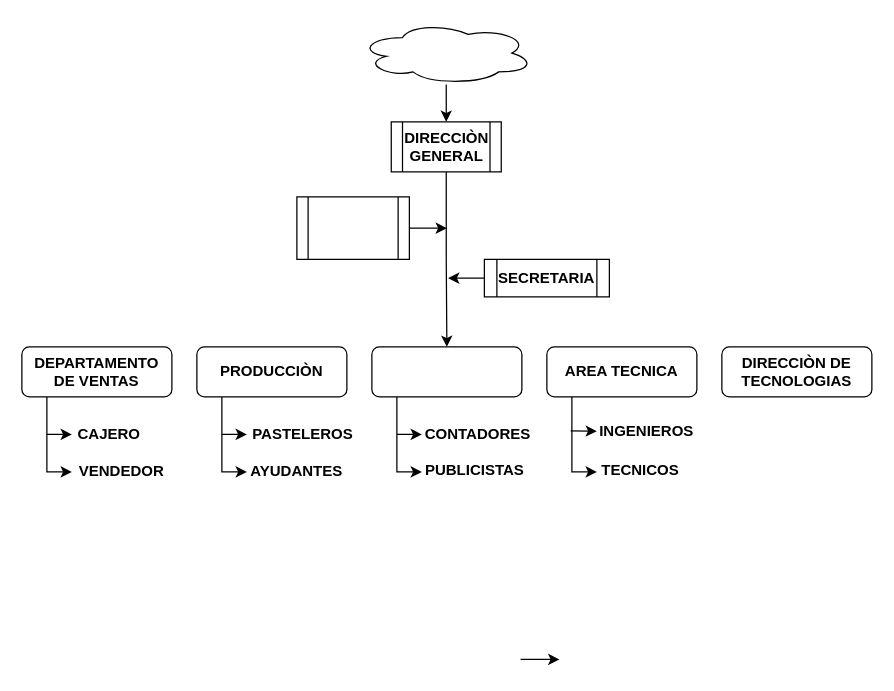
The diagram is 894 pixels wide and 691 high, and some of its shapes have lost their labels. Here are the shapes that lost their labels. From the top down, the centre of each, then its label:
At point 446,52: "JEFE O DUEÑO".
At point 352,227: "SUB DIRECCIÒN GENERAL".
At point 446,371: "ADMINISTRACIÒN Y FINANZAS".
